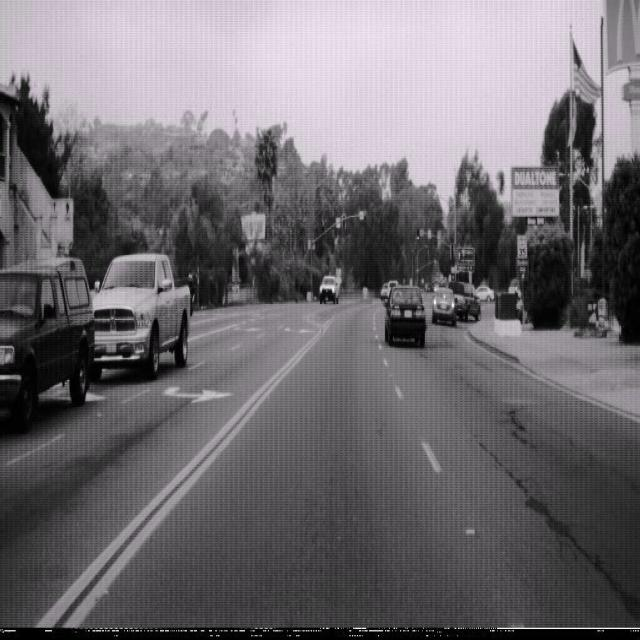speedLimit35: (516, 233, 528, 260)
